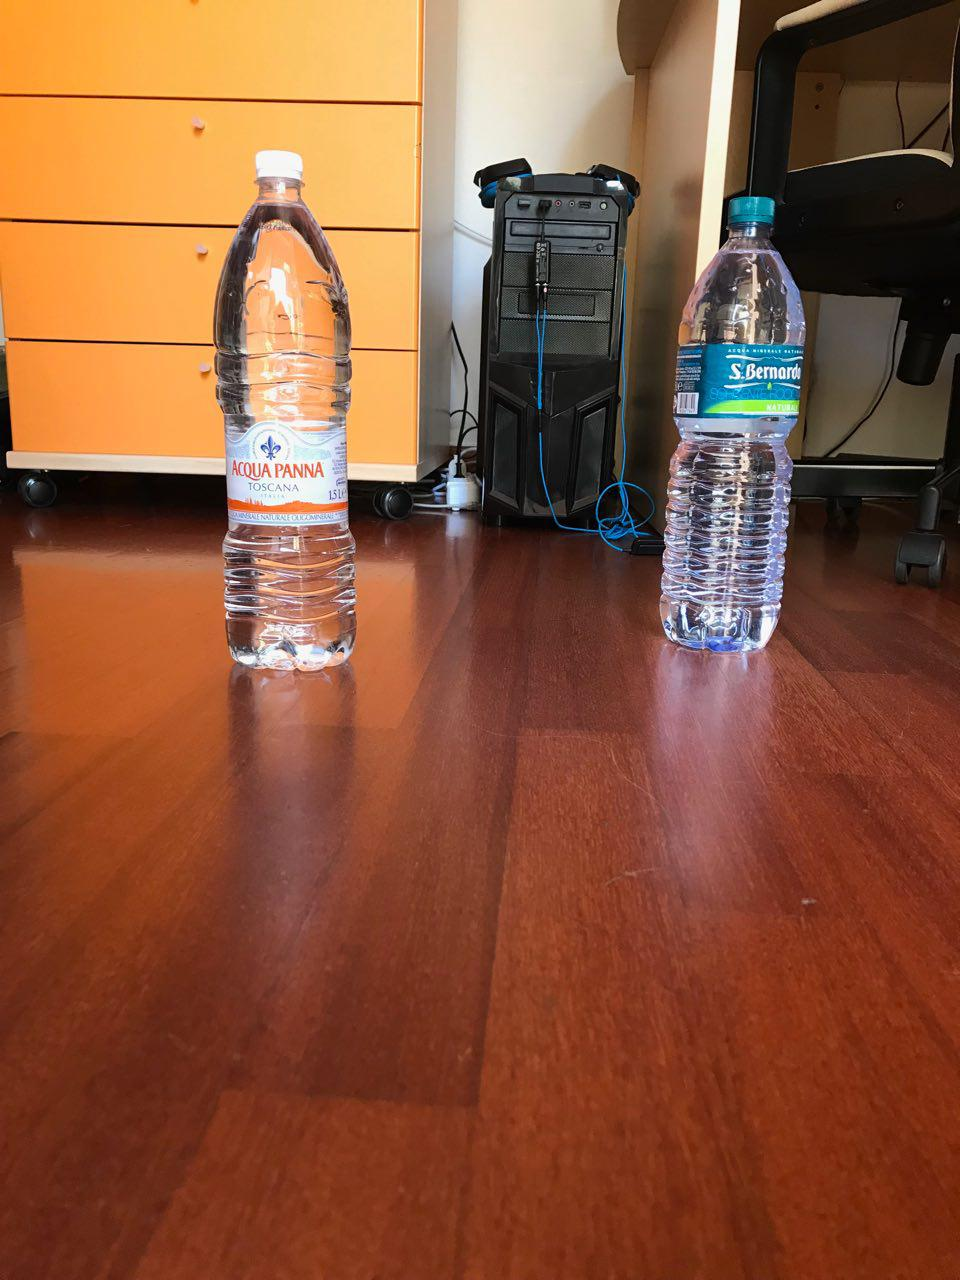san_bernardo: (658, 193, 807, 652)
